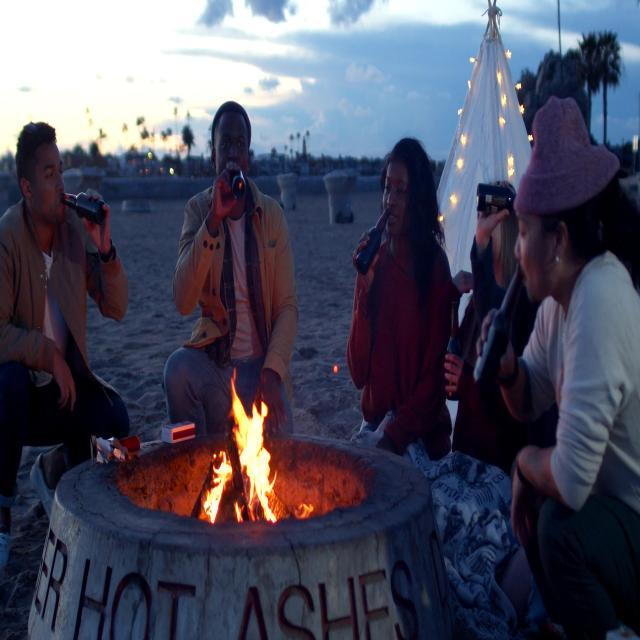Fire: (198, 370, 278, 532)
